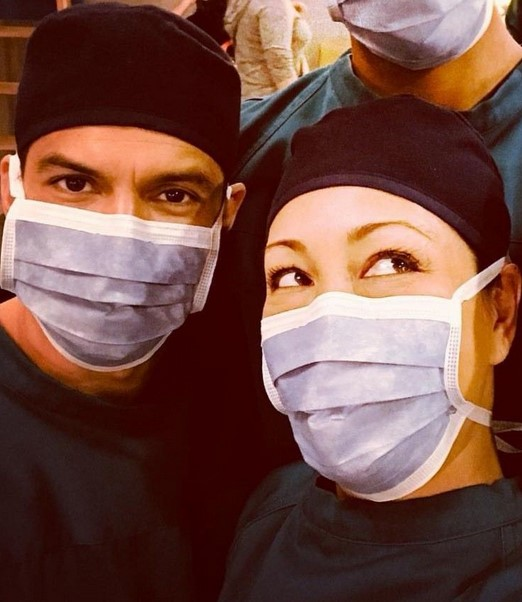face_with_mask: (254, 97, 520, 503), (3, 4, 244, 379)
